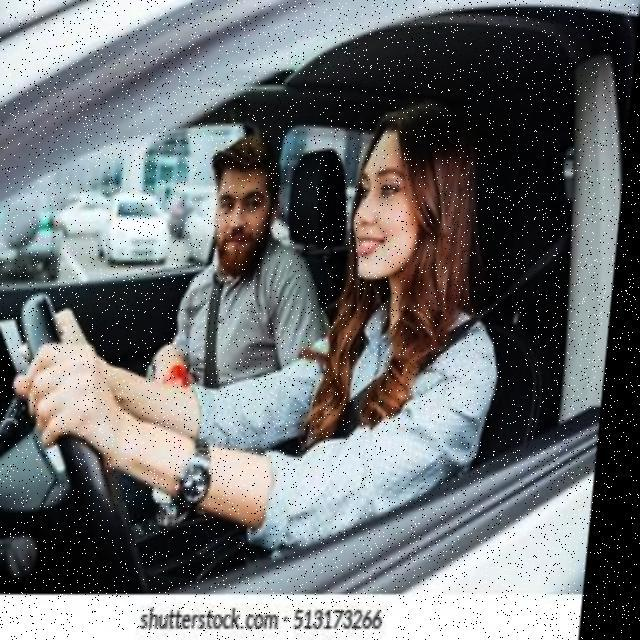seatbelt: (322, 268, 505, 507), (176, 238, 303, 382)
